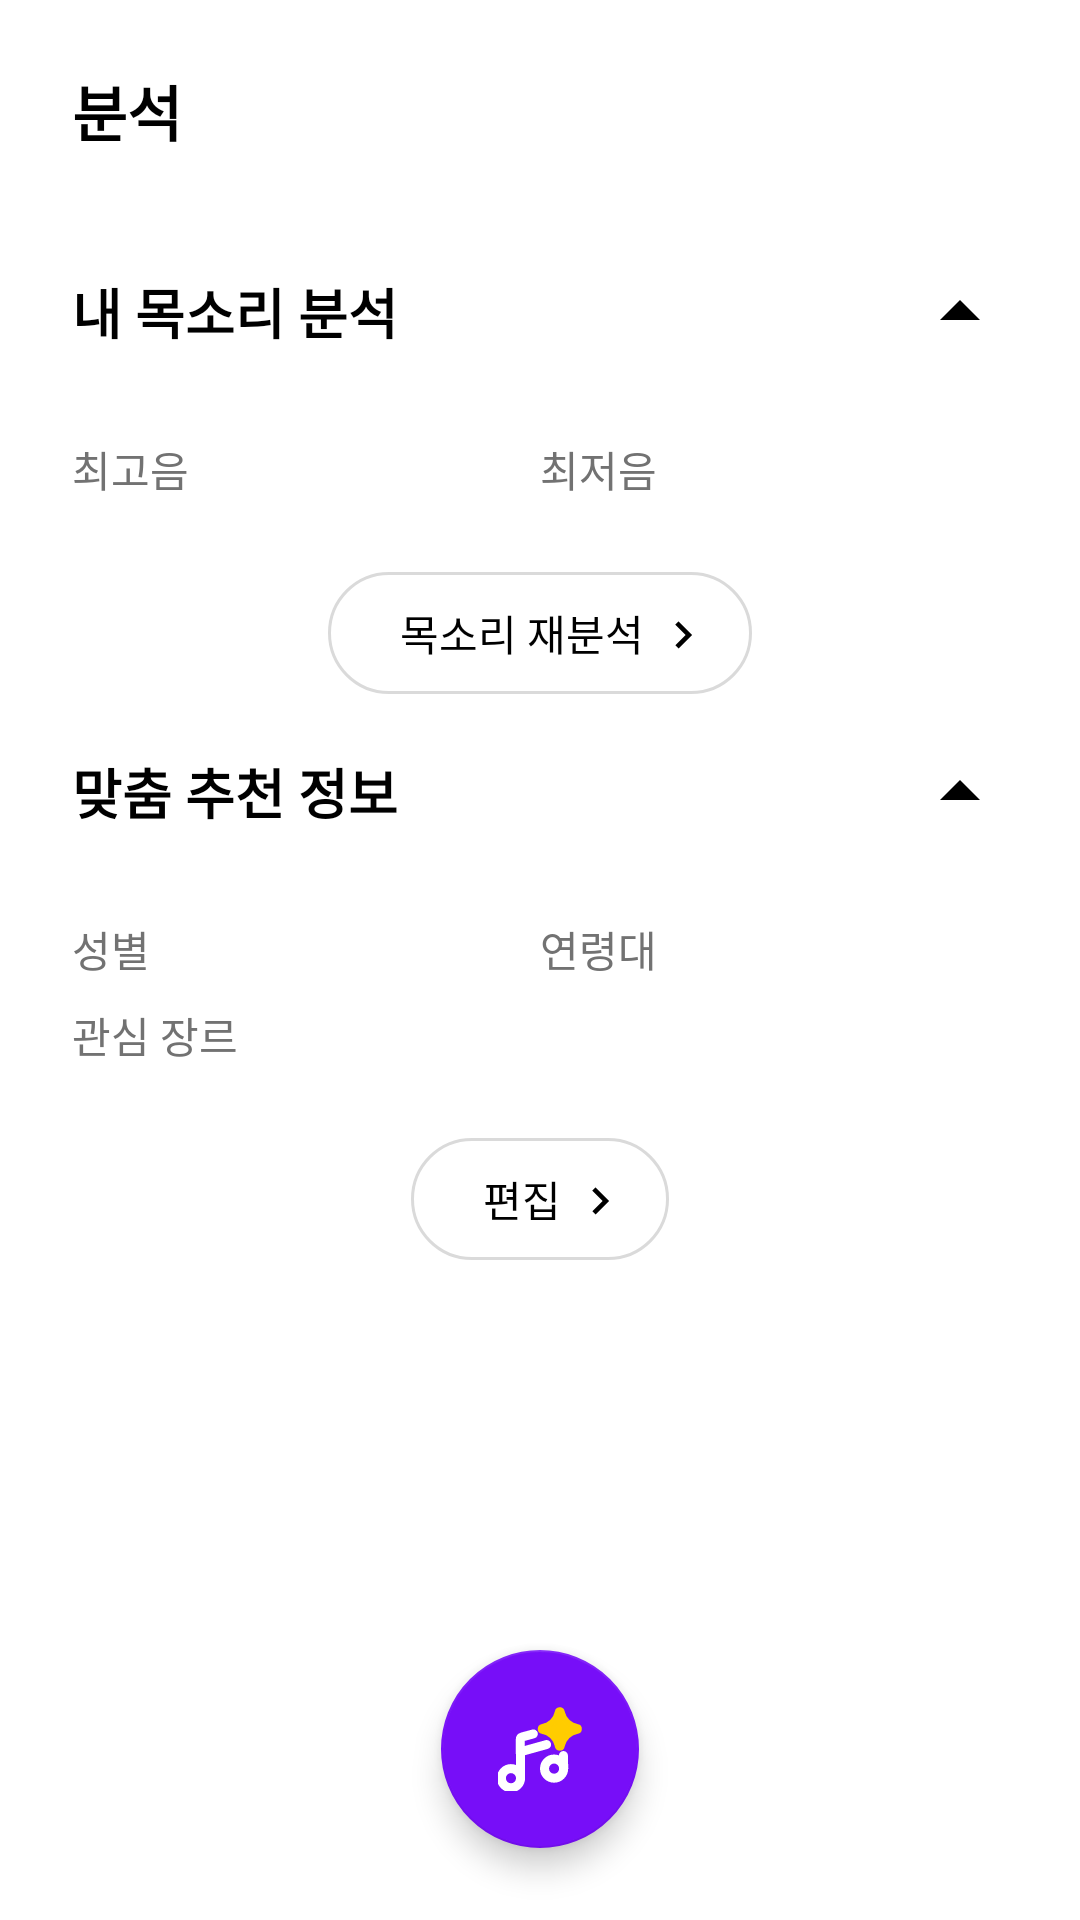

Named icons in this screenshot (1080×1920) and their bounding boxes, (x1=x1, y1=y1, x2=x2, y2=y2):
arrow drop up: (x1=940, y1=300, x2=980, y2=320), (x1=940, y1=780, x2=980, y2=800)
arrow right: (x1=675, y1=621, x2=692, y2=649), (x1=592, y1=1187, x2=609, y2=1215)
재추천: (x1=441, y1=1650, x2=639, y2=1848)
